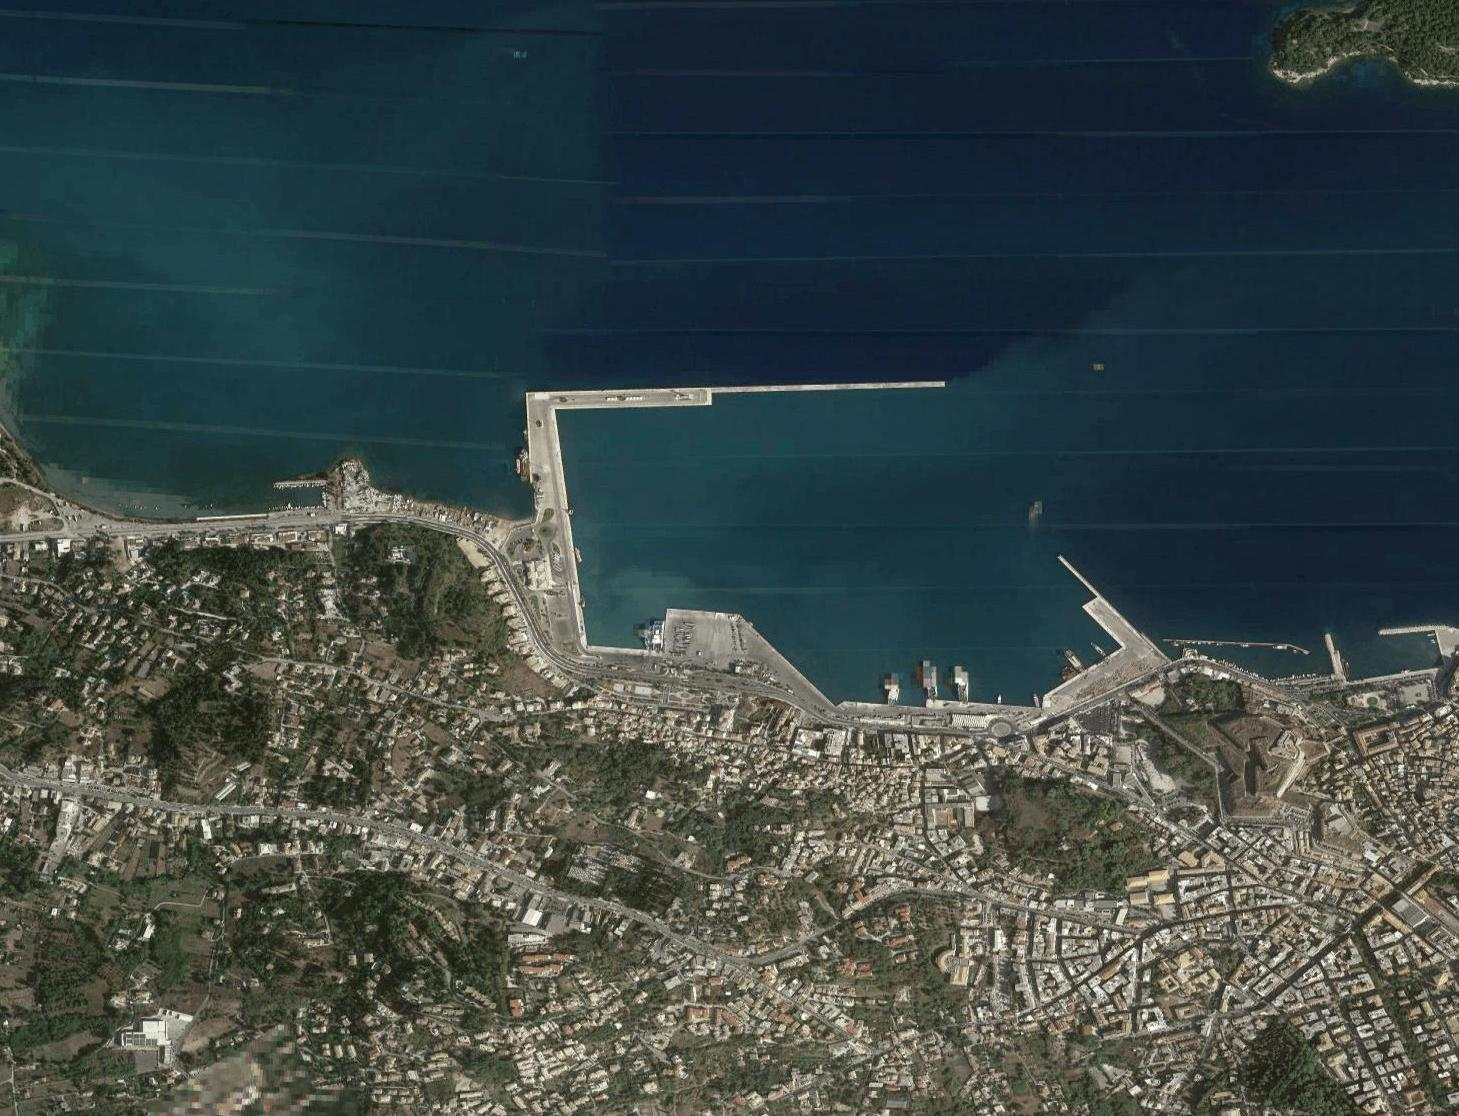harbor: (495, 348, 1459, 743)
